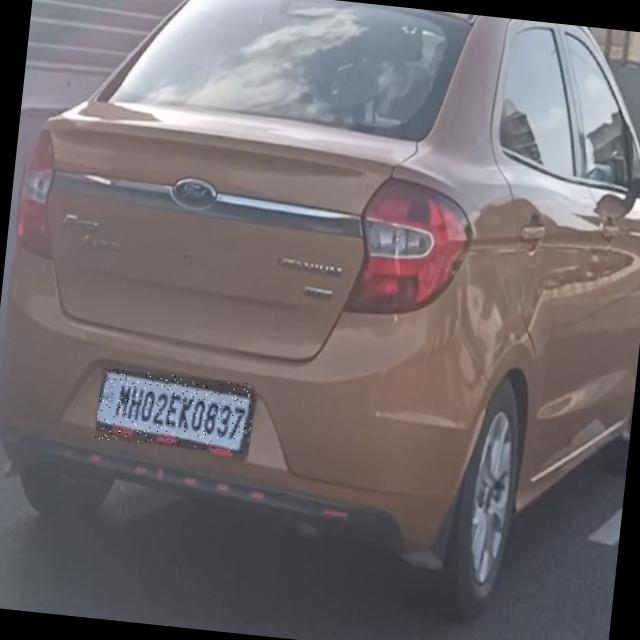Plate: (95, 369, 256, 456)
